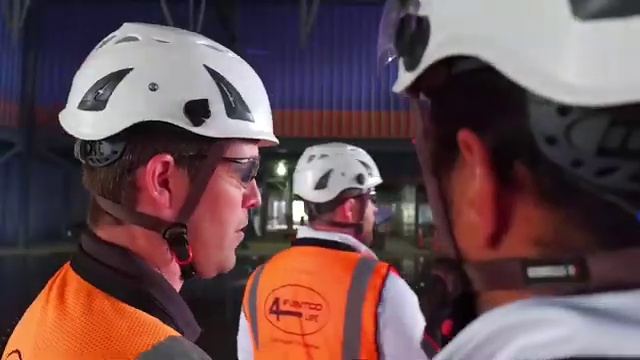helmet: (54, 11, 281, 152), (371, 1, 637, 112), (292, 141, 392, 193)
jacket: (240, 239, 406, 360), (1, 250, 178, 360)
